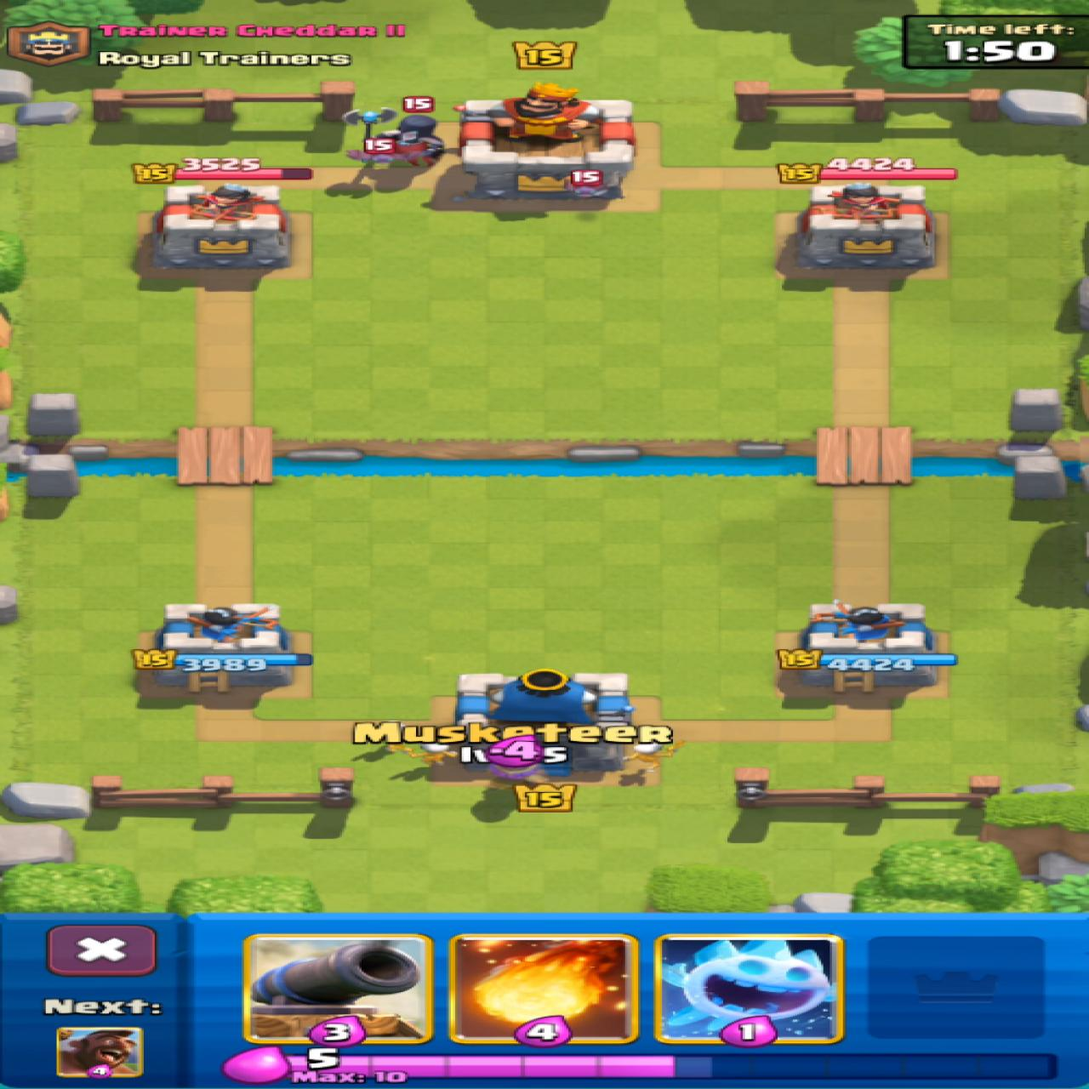Enemy-Bat: (346, 138, 392, 162), (568, 170, 599, 195)
Enemy-KingTower: (457, 81, 634, 198)
Enemy-NightWitch: (342, 108, 442, 164)
Enemy-PrincessTower: (791, 183, 934, 278), (155, 184, 287, 267)
